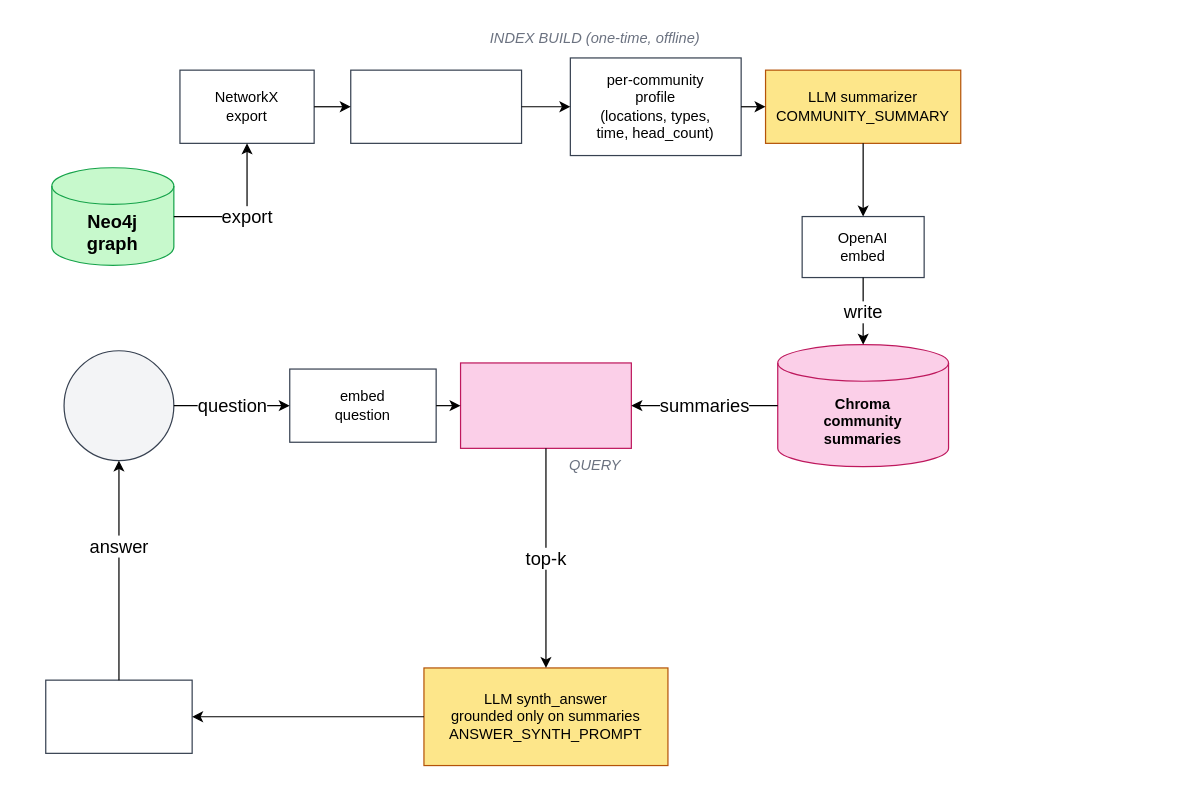
Some shapes in this 1188 by 787 pixel diagram are drawn without their labels. Here are the shapes that lost their labels. From the top down, the box of each, then its label:
(350, 69, 522, 143): Louvain community detection
(63, 350, 174, 461): 👤 User
(459, 362, 631, 448): Chroma top-k retrieval
(45, 679, 192, 753): answer envelope
